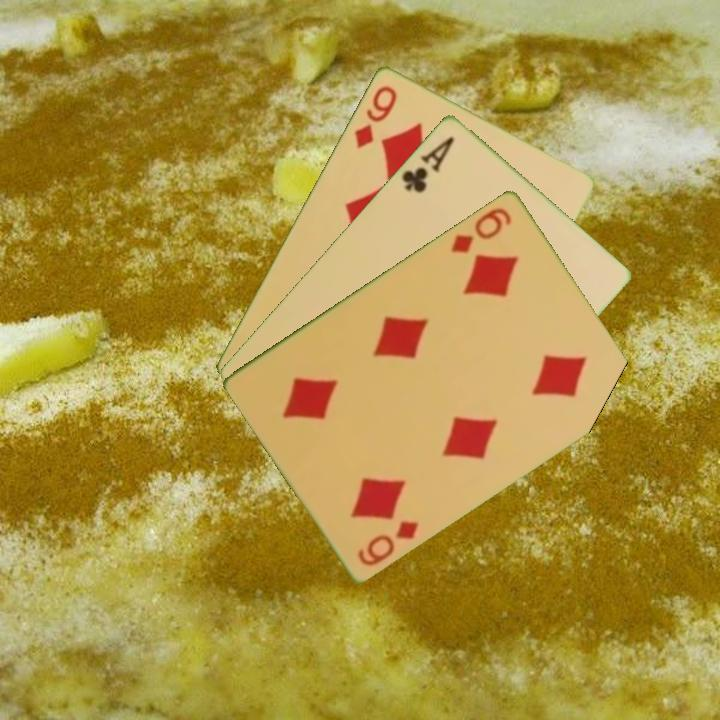6d: (447, 203, 515, 256), (354, 516, 422, 569)
9d: (350, 81, 400, 151)
Ac: (398, 132, 458, 196)
